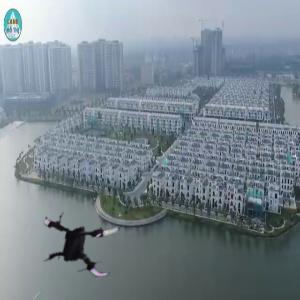drone: (30, 196, 125, 291)
